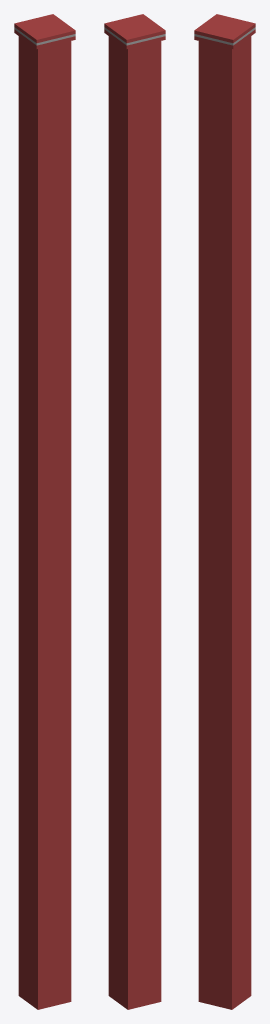
Rendered from Platform.fbx.
3 renders of one model, left to right at view 1: azimuth 30°, elevation 25°; view 2: azimuth 210°, elevation 25°; view 3: azimuth 330°, elevation 25°, orthographic.
Parts seen in each view (by area): view 1: Platform_Test; view 2: Platform_Test; view 3: Platform_Test.
Boxes of the visible parts, x1,y1,x2,y2 form: Platform_Test: [14, 14, 75, 1009]; Platform_Test: [104, 14, 165, 1009]; Platform_Test: [194, 14, 255, 1009].
Bounding box in the file's own units: 116 × 2765 × 116.
